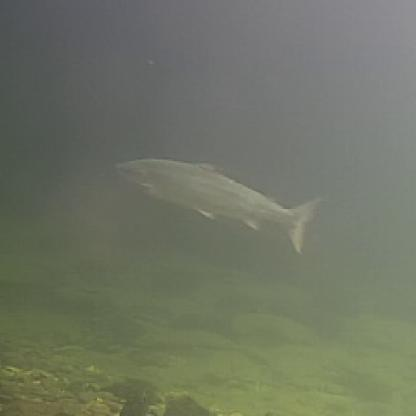salmon: (107, 151, 326, 255)
